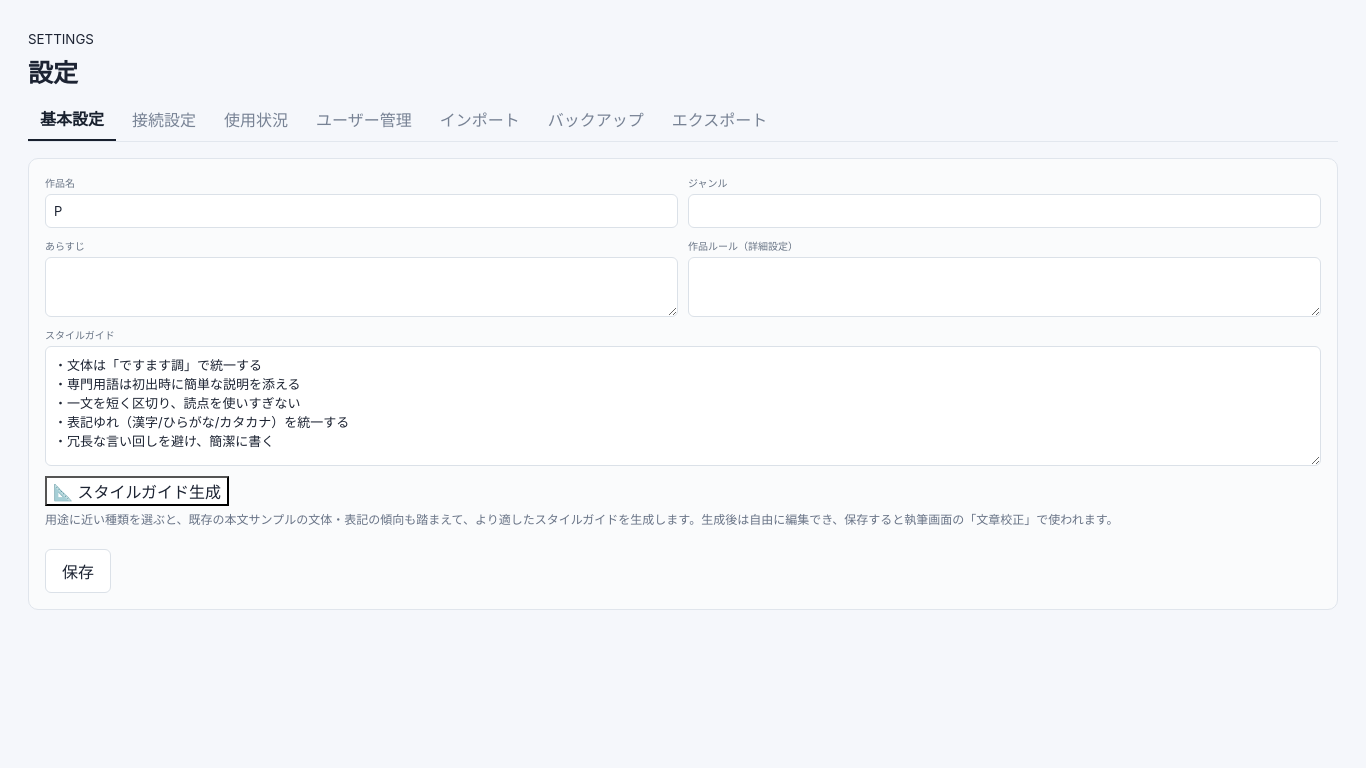
Test: SettingsPanel usage tab › shows aggregated usage totals and per-provider rows
Click the button "使用状況" at (256, 119), box [212,97,300,141]
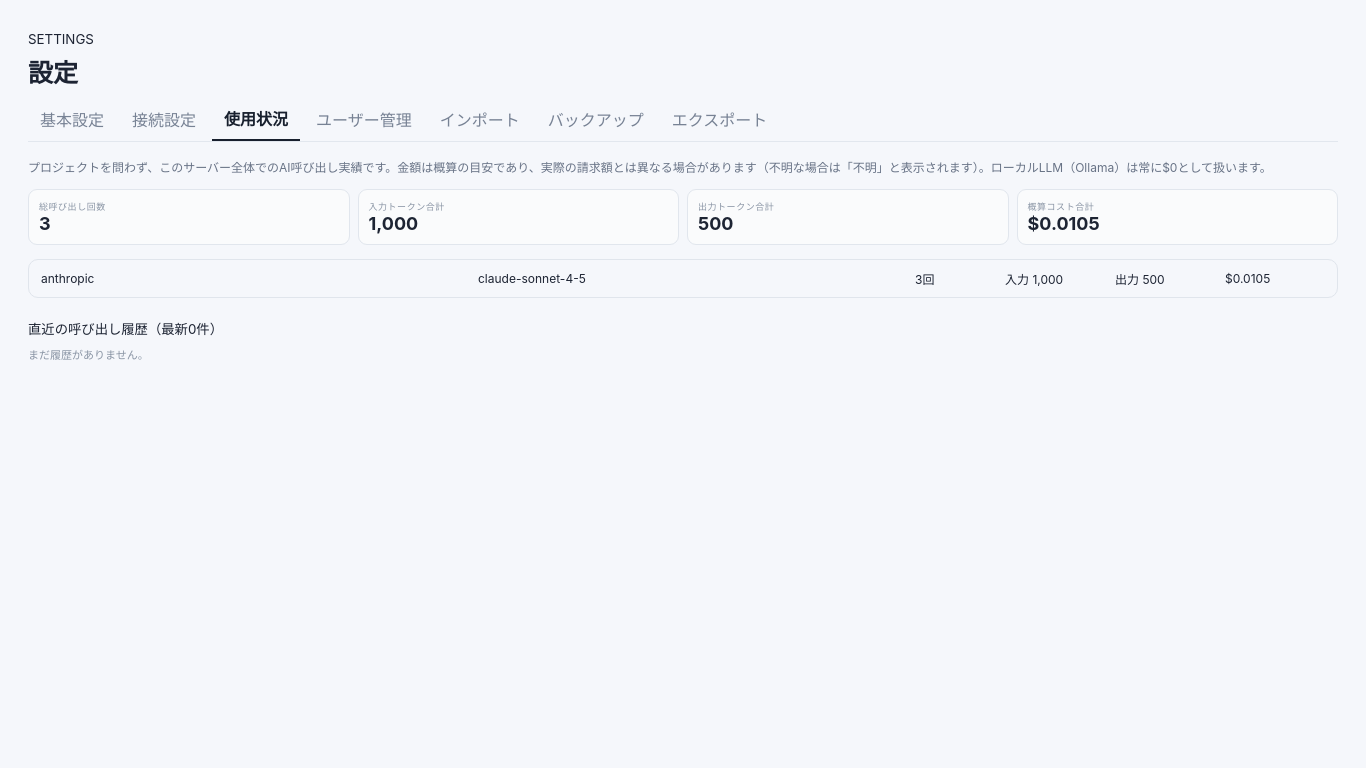
Now the text "claude-sonnet-4-5" is shown, box [478,271,586,286]
Now the text "3" is shown, box [39,213,51,234]
Now the text "$0.0105" below "概算コスト合計" is shown, box [1028,213,1100,234]
